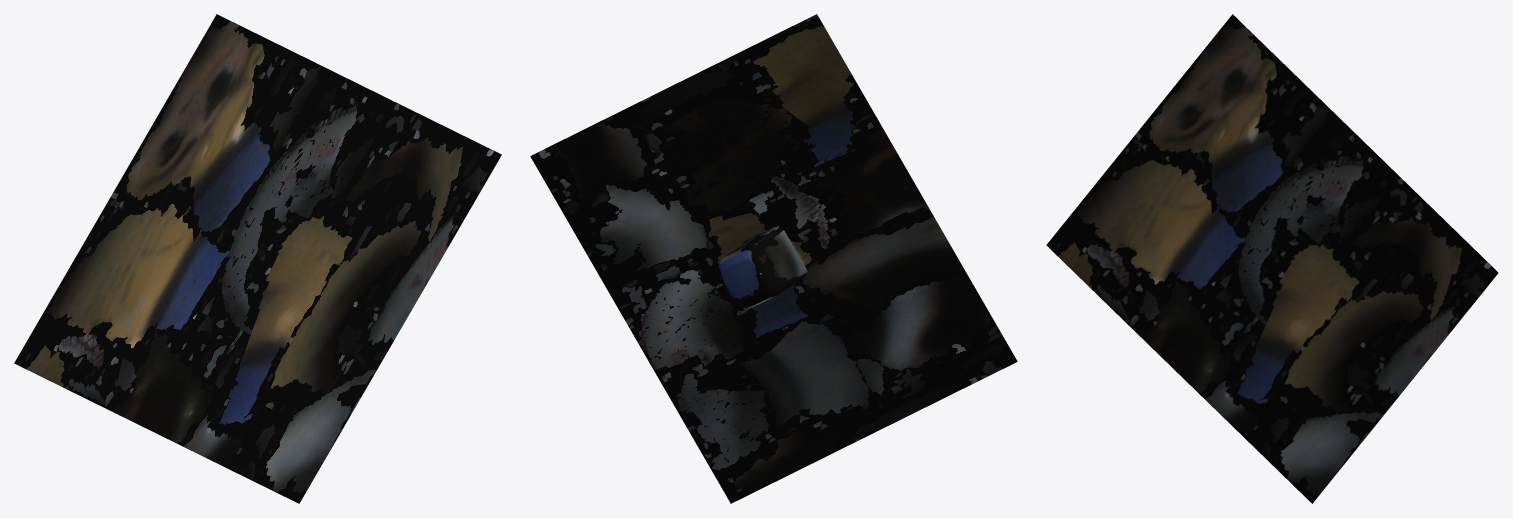
The model's file is refine_init_mesh_bottle-dettol_washing_machine.obj.
The picture shows the model from 3 angles, left to right: view 1: azimuth 30°, elevation 25°; view 2: azimuth 150°, elevation 25°; view 3: azimuth 330°, elevation 25°; orthographic projection. The views are drawn at different scales.
Visible parts, largest first — view 1: geometry_0; view 2: geometry_0; view 3: geometry_0.
Part boxes in pixels (x1,y1,x2,y2): geometry_0: [14, 14, 501, 503]; geometry_0: [530, 14, 1017, 503]; geometry_0: [1046, 14, 1498, 503].
Bounding box in the file's own units: 0.1522 × 0.1522 × 0.0173.
